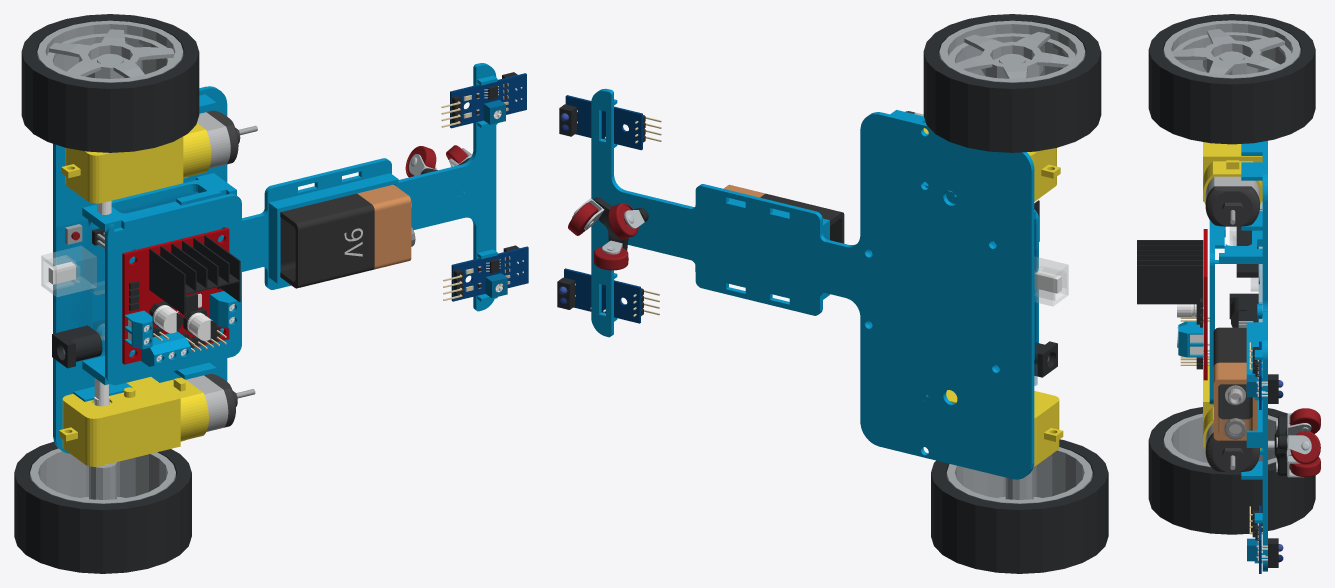
The model's file is tinker.obj.
3 views of the same model, side by side, from view 1: azimuth 30°, elevation 25°; view 2: azimuth 150°, elevation 25°; view 3: azimuth 270°, elevation 25° (orthographic). The views are drawn at different scales.
Visible parts, largest first — view 1: obj_0, obj_8, obj_9, obj_1, obj_7, obj_5, obj_6, obj_2, obj_4, obj_3, obj_10; view 2: obj_0, obj_8, obj_9, obj_10, obj_3, obj_4, obj_2, obj_7, obj_6, obj_5; view 3: obj_8, obj_9, obj_0, obj_1, obj_5, obj_6, obj_10, obj_7, obj_2, obj_4, obj_3.
Part boxes in pixels (x1,y1,x2,y2): obj_0: (53, 63, 497, 453); obj_8: (21, 14, 199, 152); obj_9: (14, 441, 191, 573); obj_1: (122, 227, 240, 366); obj_7: (59, 373, 255, 466); obj_5: (280, 184, 415, 288); obj_6: (61, 110, 257, 214); obj_2: (41, 192, 223, 368); obj_4: (443, 245, 528, 301); obj_3: (441, 72, 526, 128); obj_10: (405, 145, 471, 192); obj_0: (591, 88, 1038, 479); obj_8: (923, 14, 1101, 152); obj_9: (931, 439, 1108, 573); obj_10: (568, 197, 648, 270); obj_3: (559, 95, 661, 150); obj_4: (557, 268, 659, 323); obj_2: (868, 241, 1068, 385); obj_7: (946, 390, 1063, 466); obj_6: (905, 111, 1060, 201); obj_5: (723, 184, 844, 243); obj_8: (1148, 14, 1315, 144); obj_9: (1148, 407, 1315, 534); obj_0: (1209, 141, 1267, 571); obj_1: (1137, 229, 1209, 380); obj_5: (1213, 327, 1257, 440); obj_6: (1203, 142, 1262, 226); obj_10: (1268, 408, 1320, 477); obj_7: (1203, 361, 1260, 472); obj_2: (1229, 202, 1262, 327); obj_4: (1247, 505, 1283, 573); obj_3: (1247, 341, 1283, 409).
Size of the model in its own units: 212 by 189 by 69.4.
